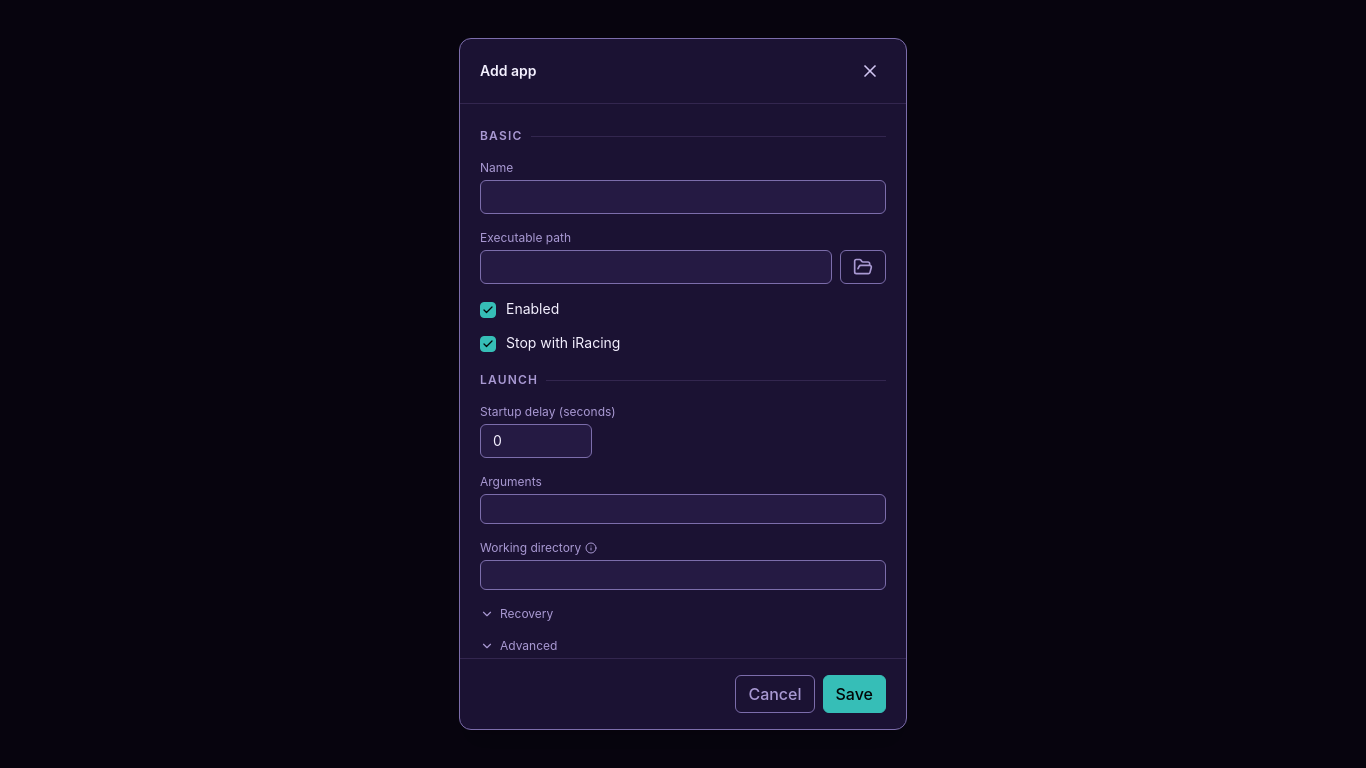
Test case: AppFormModal sections › expands Recovery section on toggle click
This screenshot has width=1366, height=768.
Click the button "Recovery": [517, 614] box [480,606,553,622]
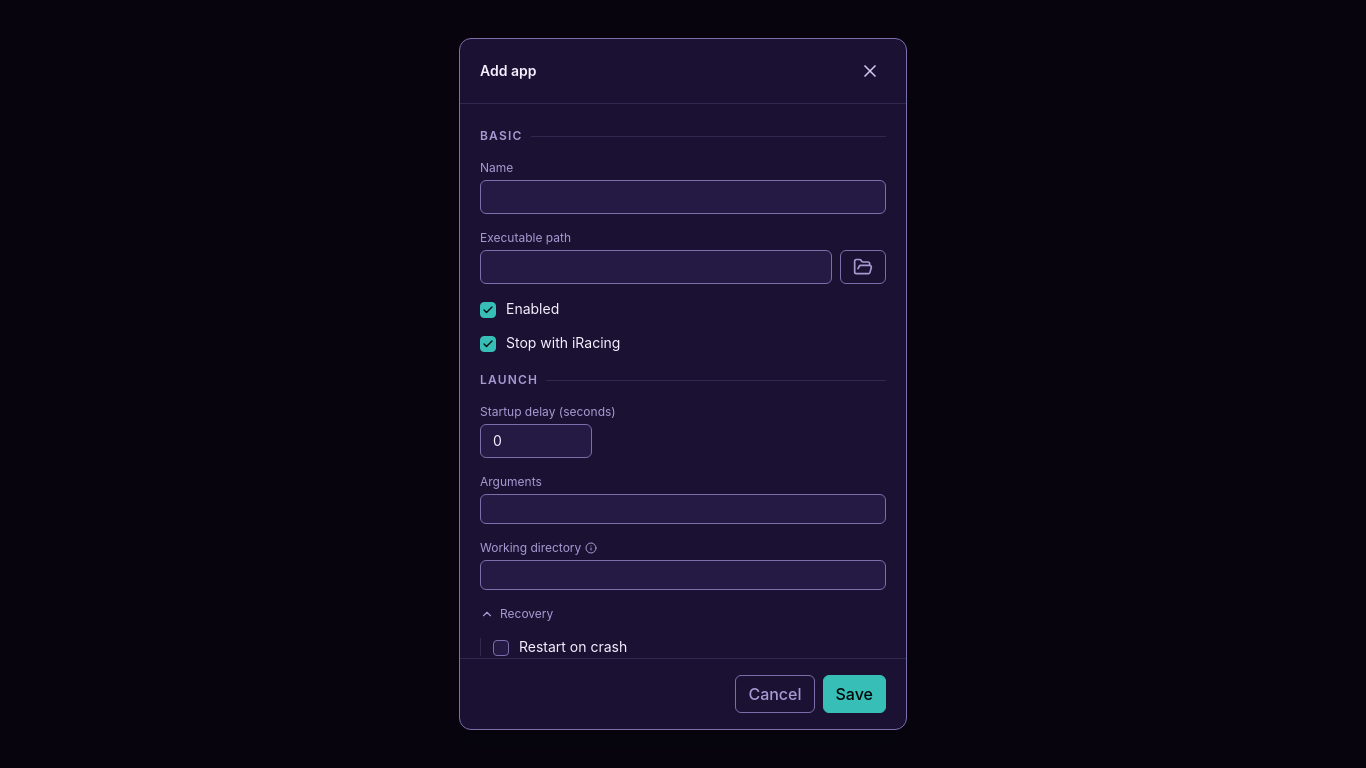
Now the button "Recovery" is expanded, box [480,606,553,622]
Now the checkbox labelled "Restart on crash" is shown, box [493,638,627,656]
